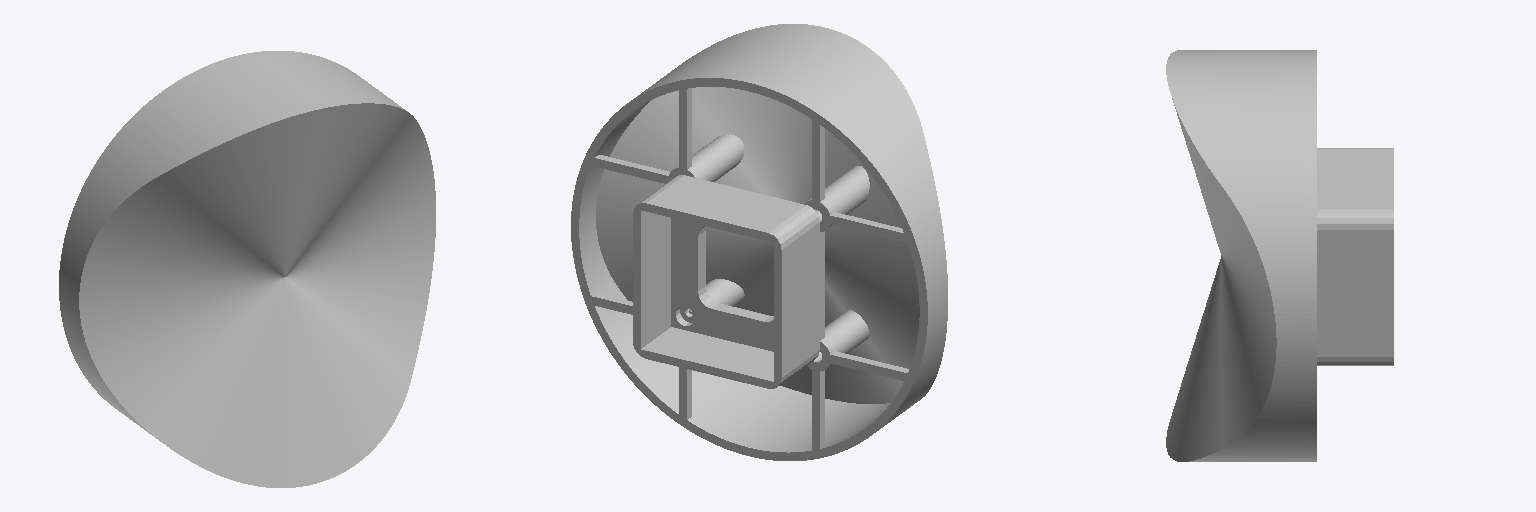
Rendered from saddle.obj.
3 renders of one model, left to right at view 1: azimuth 30°, elevation 25°; view 2: azimuth 150°, elevation 25°; view 3: azimuth 270°, elevation 25°, orthographic.
Visible parts, largest first — view 1: Base_Link; view 2: Base_Link; view 3: Base_Link.
Boxes of the visible parts, x1=… form: Base_Link: x1=59, y1=51, x2=435, y2=487; Base_Link: x1=571, y1=24, x2=947, y2=460; Base_Link: x1=1166, y1=50, x2=1393, y2=461.
Bounding box in the file's own units: 0.1344 × 0.1344 × 0.0743.